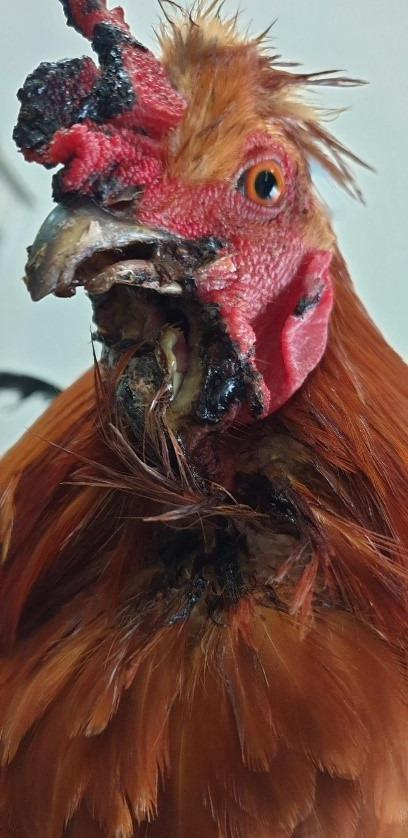AbNormal: (15, 5, 368, 620)
